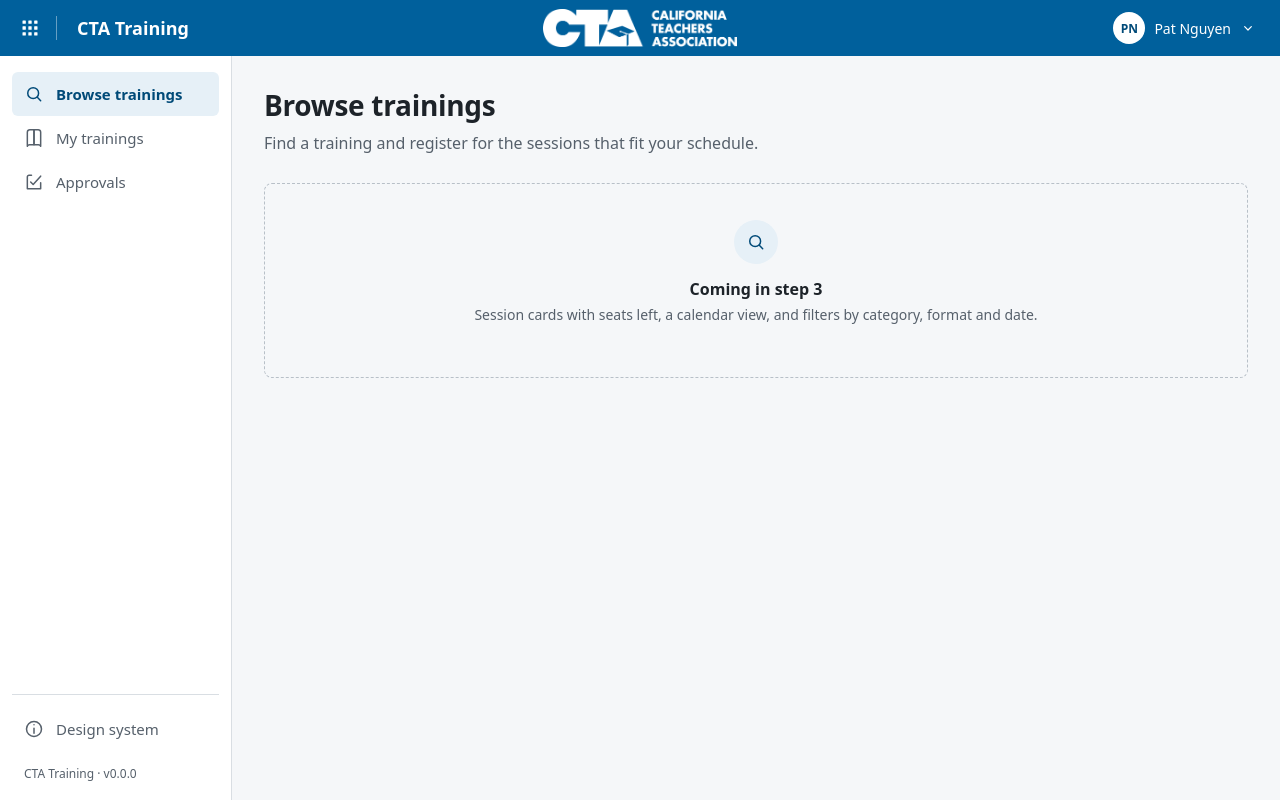
Scenario: AppShell › shows name, email and role in the profile menu
Click the button "PN Pat Nguyen": (1185, 28) [1105, 6, 1264, 50]
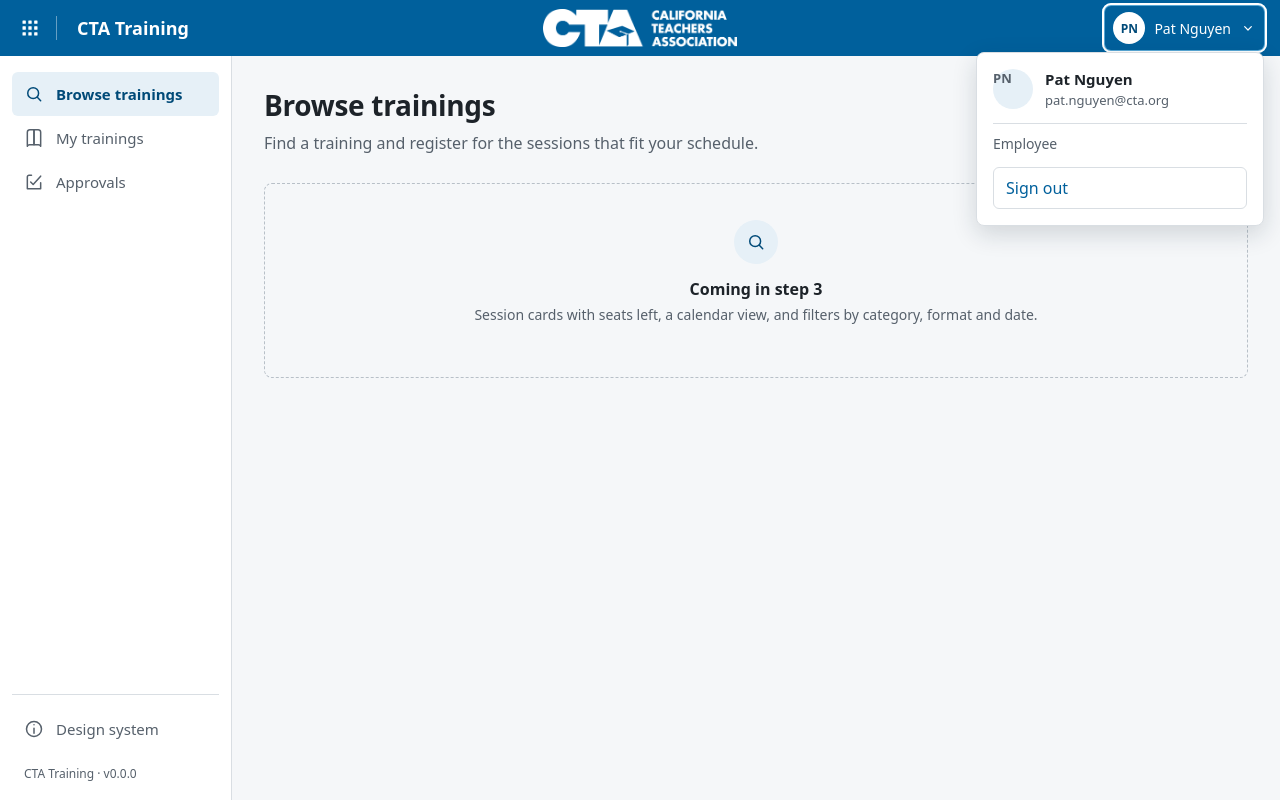
Expected: the text "pat.nguyen@cta.org" is shown, [1045, 91, 1169, 109]
Expected: the text "Employee" is shown, [993, 123, 1247, 167]
